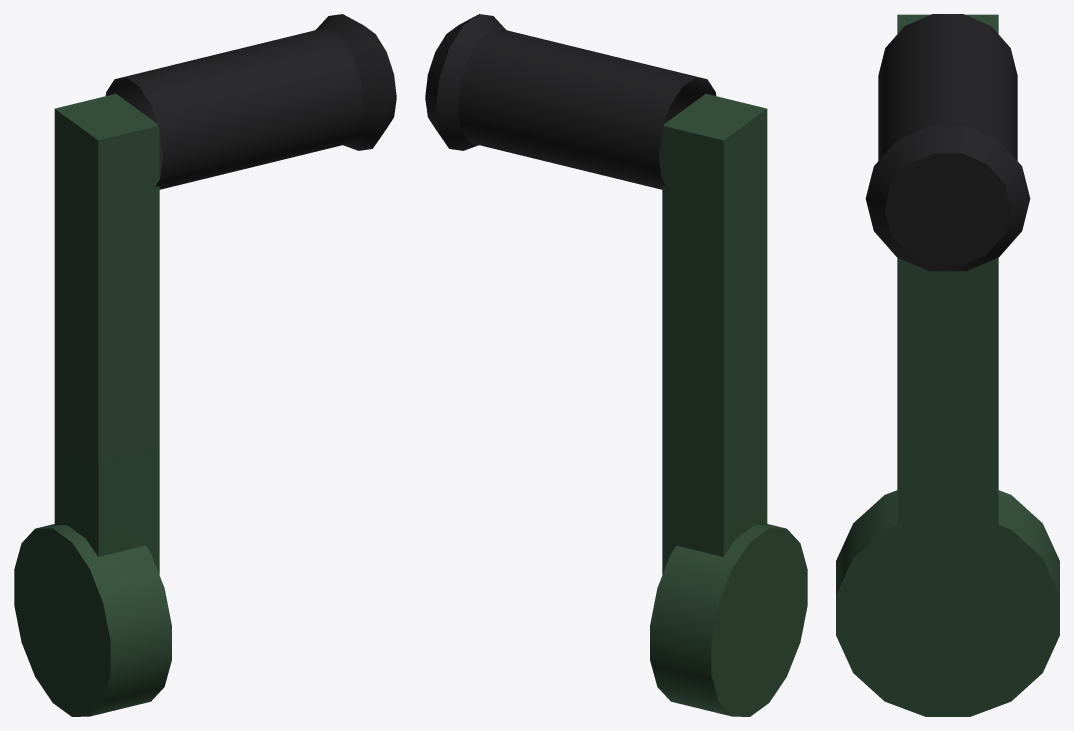
Rendered from crank.obj.
The picture shows the model from 3 angles, left to right: view 1: azimuth 30°, elevation 25°; view 2: azimuth 150°, elevation 25°; view 3: azimuth 270°, elevation 25°; orthographic projection. The views are drawn at different scales.
Visible parts, largest first — view 1: hand_fuel_pump__crank__arm, hand_fuel_pump__crank__grip, hand_fuel_pump__crank__hub, hand_fuel_pump__crank__knob; view 2: hand_fuel_pump__crank__arm, hand_fuel_pump__crank__grip, hand_fuel_pump__crank__hub, hand_fuel_pump__crank__knob; view 3: hand_fuel_pump__crank__arm, hand_fuel_pump__crank__hub, hand_fuel_pump__crank__knob, hand_fuel_pump__crank__grip.
Boxes of the visible parts, left/top/right/bottom form: hand_fuel_pump__crank__arm: left=54, top=93, right=159, bottom=574; hand_fuel_pump__crank__grip: left=105, top=28, right=363, bottom=189; hand_fuel_pump__crank__hub: left=14, top=524, right=171, bottom=716; hand_fuel_pump__crank__knob: left=315, top=14, right=396, bottom=150; hand_fuel_pump__crank__arm: left=662, top=93, right=767, bottom=574; hand_fuel_pump__crank__grip: left=458, top=28, right=716, bottom=189; hand_fuel_pump__crank__hub: left=650, top=524, right=807, bottom=716; hand_fuel_pump__crank__knob: left=425, top=14, right=506, bottom=150; hand_fuel_pump__crank__arm: left=897, top=14, right=998, bottom=680; hand_fuel_pump__crank__hub: left=836, top=490, right=1059, bottom=716; hand_fuel_pump__crank__knob: left=865, top=126, right=1030, bottom=271; hand_fuel_pump__crank__grip: left=878, top=14, right=1017, bottom=160.
Bounding box in the file's own units: 0.1016 × 0.1958 × 0.0552.
